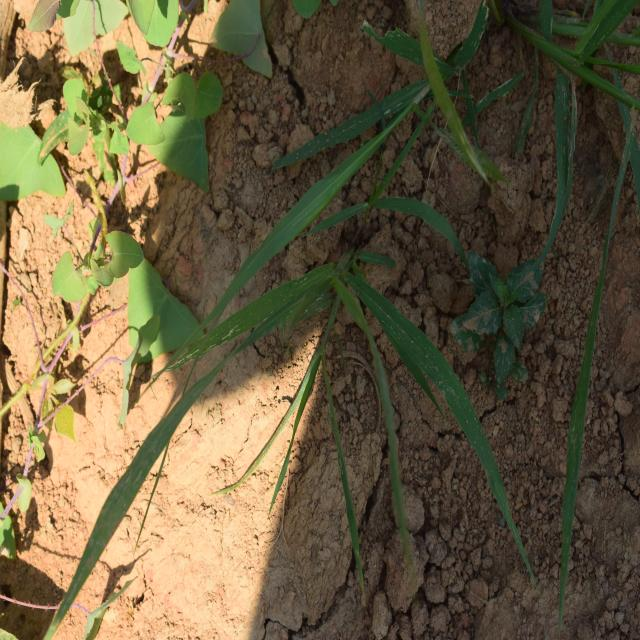green_foxtail: (169, 189, 480, 526)
